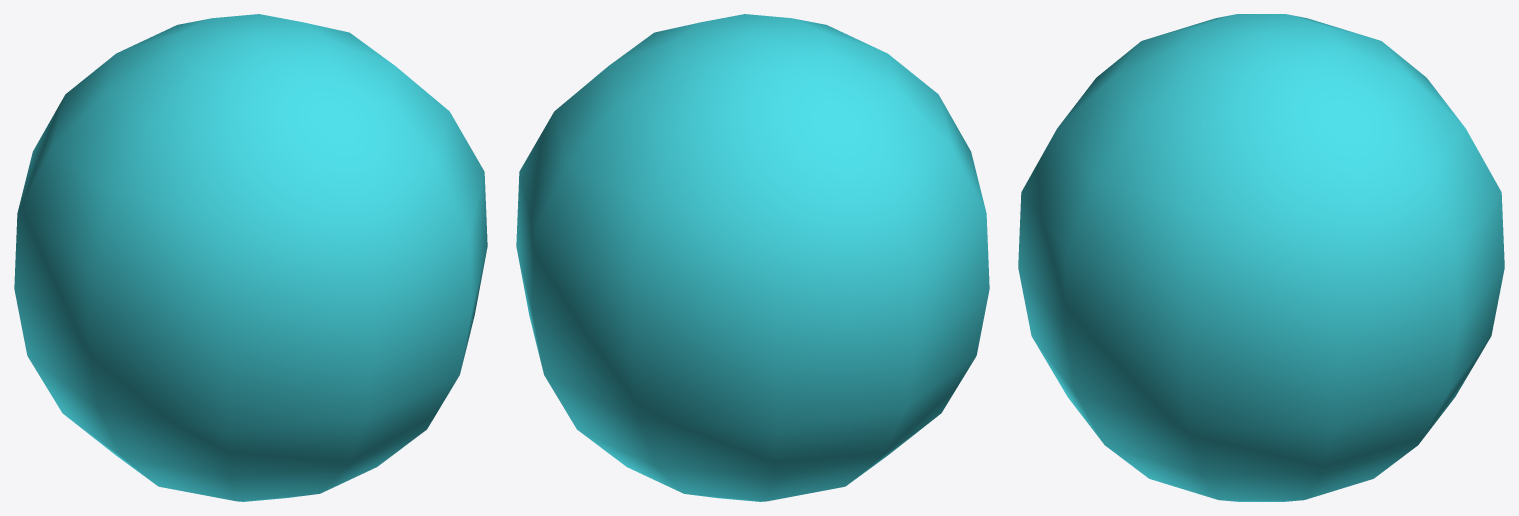
Rendered from Aro-sphere-1.glb.
The picture shows the model from 3 angles, left to right: view 1: azimuth 30°, elevation 25°; view 2: azimuth 150°, elevation 25°; view 3: azimuth 270°, elevation 25°; orthographic projection.
Parts seen in each view (by area): view 1: Sphere; view 2: Sphere; view 3: Sphere.
Part boxes in pixels (x1=…): Sphere: x1=14, y1=14, x2=487, y2=501; Sphere: x1=516, y1=14, x2=989, y2=501; Sphere: x1=1018, y1=14, x2=1504, y2=501.
Bounding box in the file's own units: 1.83 × 1.96 × 1.93.
